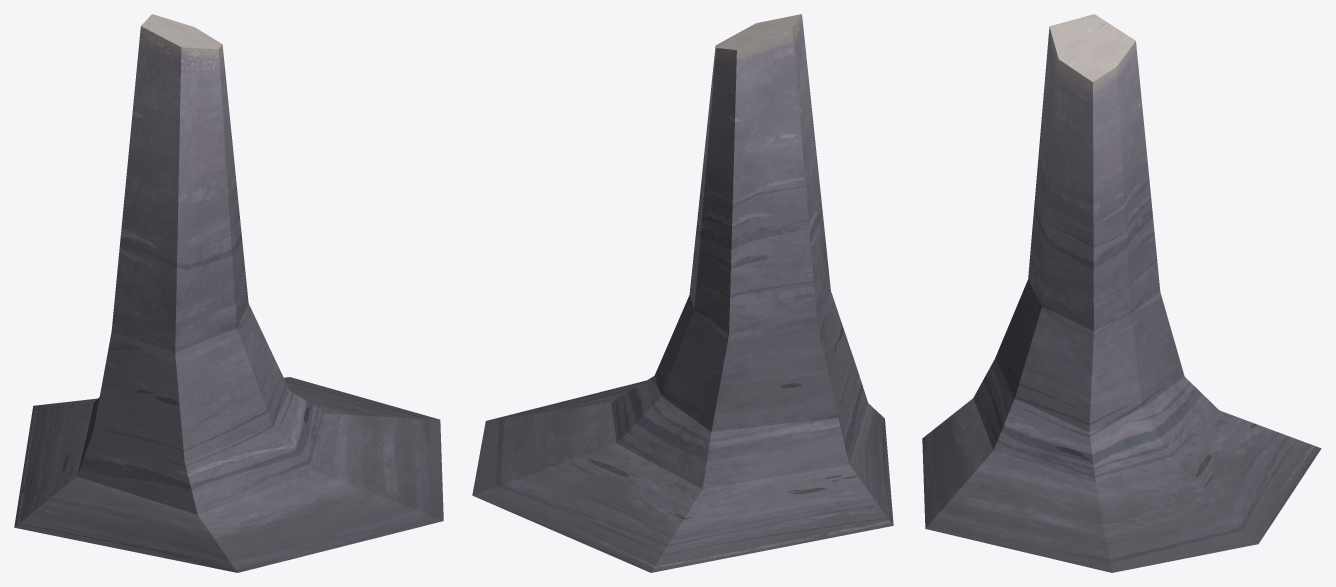
File: spire_3_001.fbx
The picture shows the model from 3 angles, left to right: view 1: azimuth 30°, elevation 25°; view 2: azimuth 150°, elevation 25°; view 3: azimuth 270°, elevation 25°; orthographic projection. The views are drawn at different scales.
Visible parts, largest first — view 1: spire 3.001; view 2: spire 3.001; view 3: spire 3.001.
Boxes of the visible parts, x1=… form: spire 3.001: x1=14, y1=14, x2=443, y2=572; spire 3.001: x1=472, y1=14, x2=893, y2=572; spire 3.001: x1=922, y1=14, x2=1321, y2=572.
Size of the model in its own units: 350 by 378 by 319.
